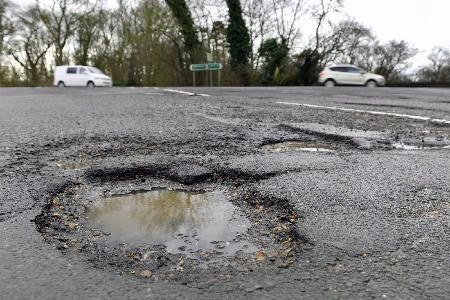pothole: (31, 162, 305, 281), (256, 122, 358, 156)
